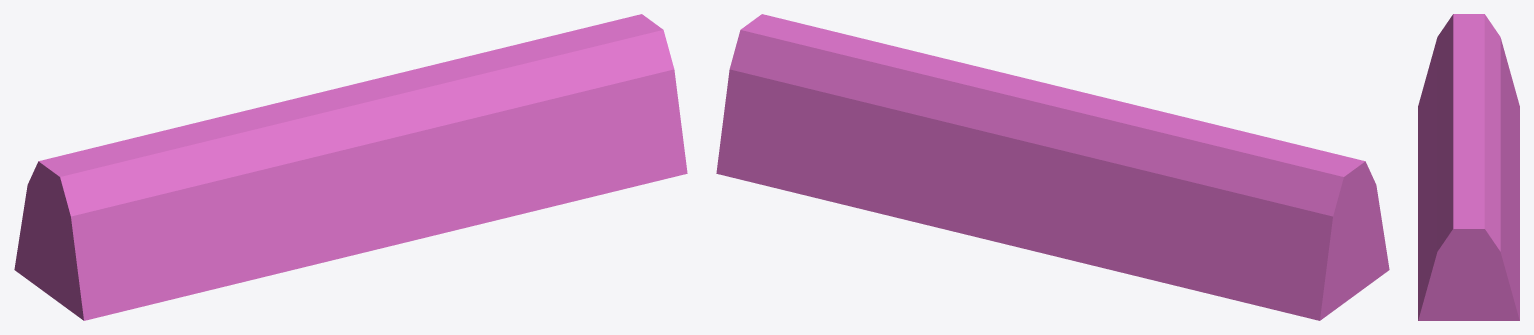
File: half wall FLR2.fbx
3 renders of one model, left to right at view 1: azimuth 30°, elevation 25°; view 2: azimuth 150°, elevation 25°; view 3: azimuth 270°, elevation 25°, orthographic. The views are drawn at different scales.
Parts seen in each view (by area): view 1: half_wall; view 2: half_wall; view 3: half_wall.
Boxes of the visible parts, x1=… form: half_wall: x1=14, y1=14, x2=687, y2=320; half_wall: x1=716, y1=14, x2=1389, y2=320; half_wall: x1=1418, y1=14, x2=1519, y2=320.
Size of the model in its own units: 5 by 1 by 1.
